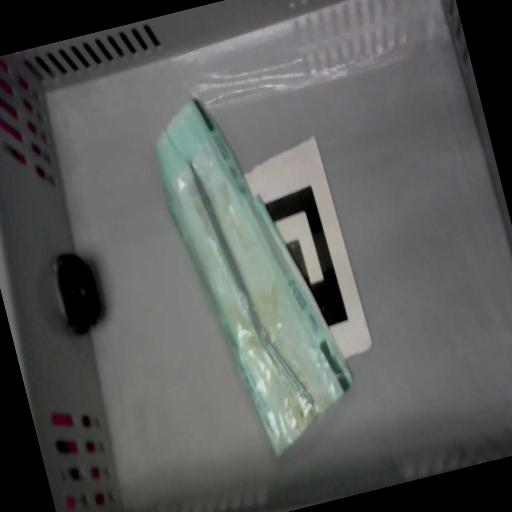QR: (262, 184, 350, 335)
triple_syringe: (154, 96, 354, 461)
